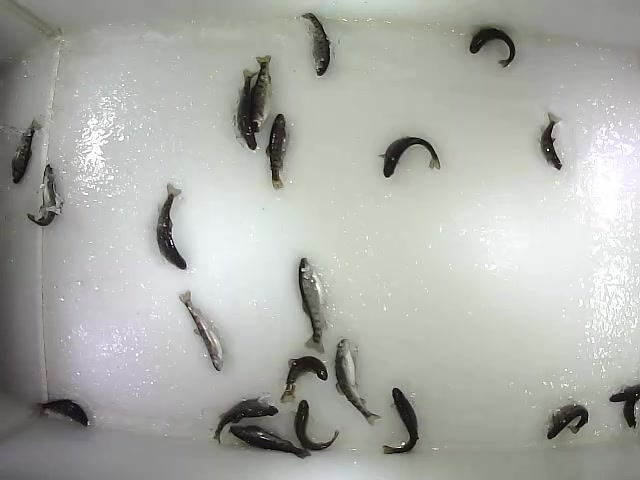fish: (333, 338, 383, 427), (177, 288, 225, 373), (212, 397, 280, 445), (297, 256, 329, 355), (228, 424, 312, 461), (154, 182, 188, 271), (376, 136, 441, 178), (382, 386, 420, 456), (293, 399, 340, 453), (279, 355, 329, 405), (10, 116, 45, 185), (300, 12, 332, 78), (235, 68, 260, 152), (468, 27, 517, 69), (26, 162, 57, 228), (249, 52, 273, 134), (32, 396, 90, 428), (544, 403, 590, 442), (534, 111, 563, 171), (266, 113, 288, 192)
